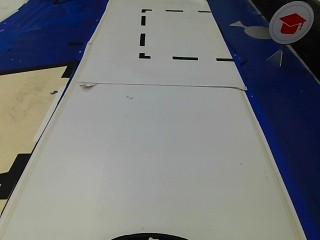school: (268, 2, 310, 42)
